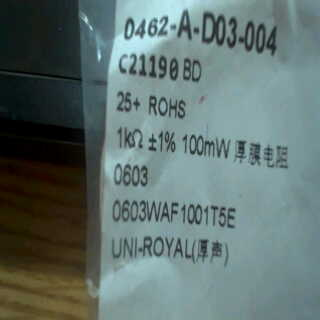1kR: (108, 125, 142, 153)
